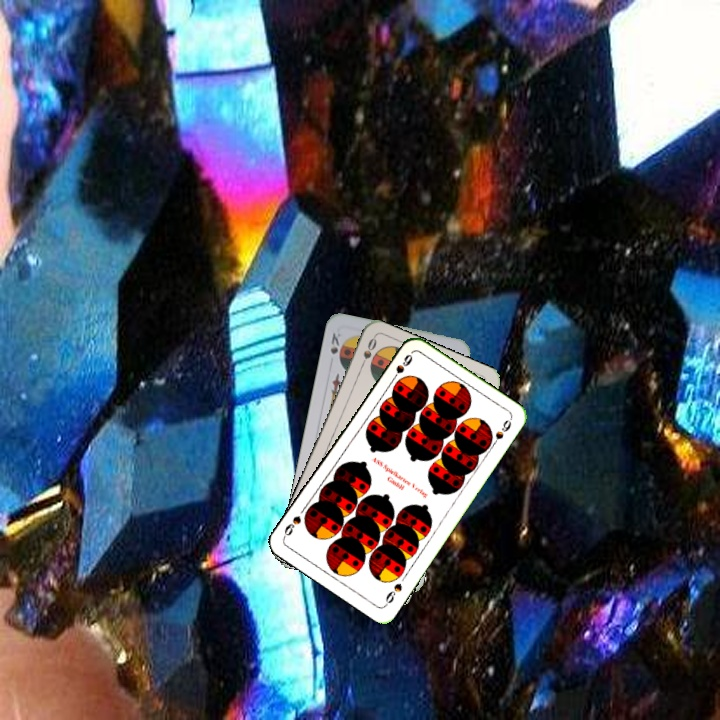S9: (387, 350, 415, 385), (381, 579, 405, 609)
SK: (326, 327, 344, 357)
SO: (356, 334, 379, 372)
